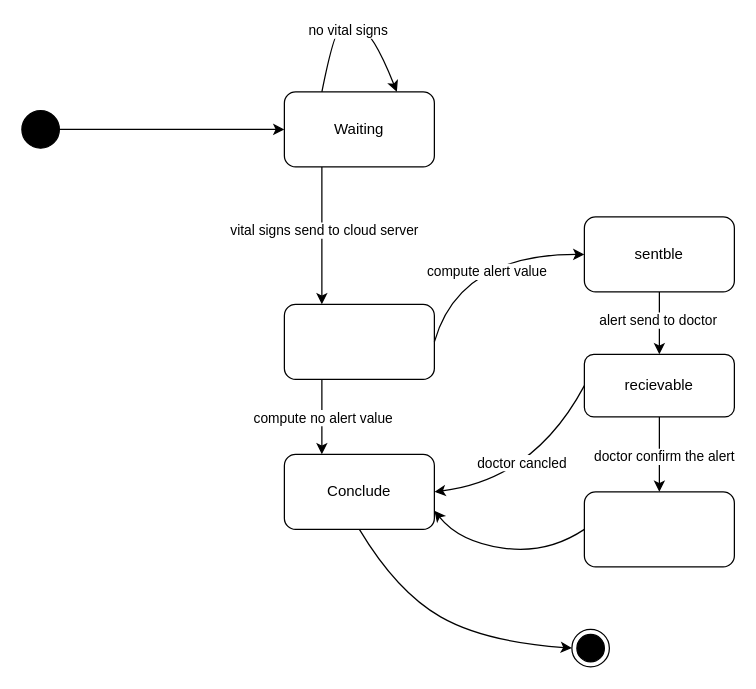
This 756x689 diagram has some shape labels left out. Here are the shapes that lost their labels. From the top down, the centre of each, then its label:
At point 358,341: "Preparable".
At point 658,529: "confirmable".
